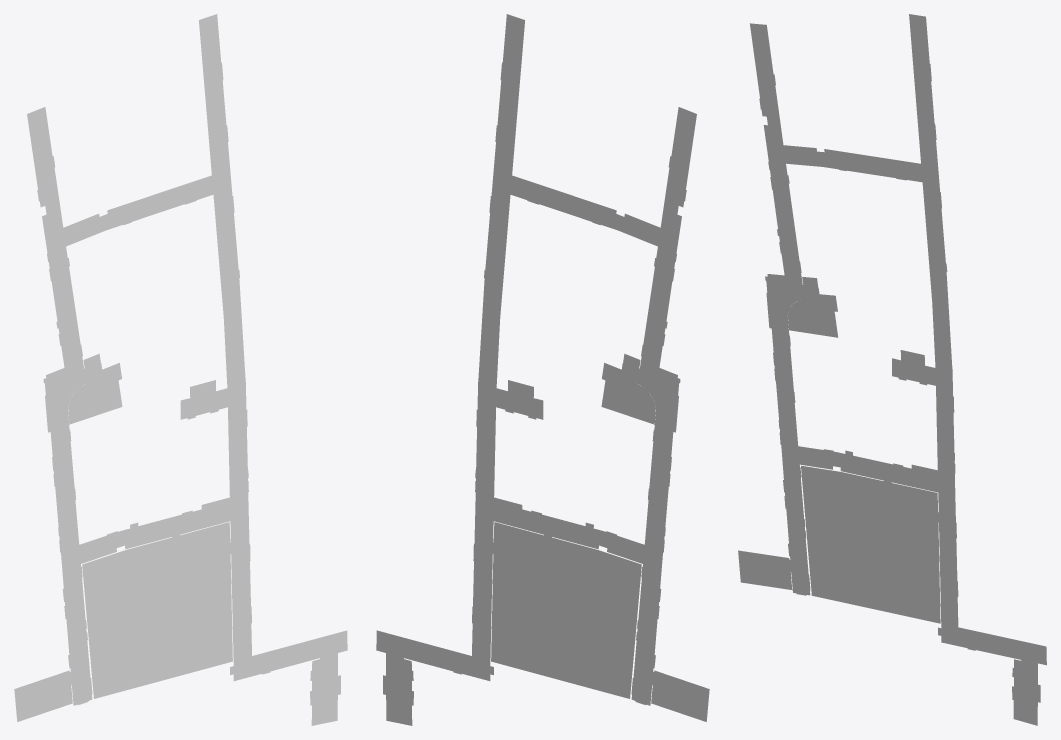
Rendered from Contours3_v3_ceil.dae.
3 views of the same model, side by side, from view 1: azimuth 30°, elevation 25°; view 2: azimuth 150°, elevation 25°; view 3: azimuth 330°, elevation 25° (orthographic). The views are drawn at different scales.
Parts seen in each view (by area): view 1: node; view 2: node; view 3: node.
Boxes of the visible parts, bbox=[...] form: node: bbox=[14, 14, 347, 725]; node: bbox=[376, 14, 709, 725]; node: bbox=[738, 14, 1046, 725].
Bounding box in the file's own units: 37.17 × 78.45 × 0.
1 material, 1 textured.
